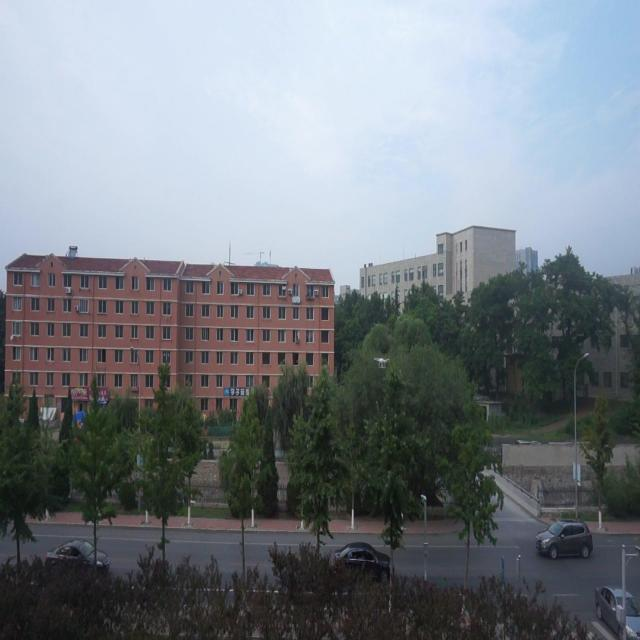UAV: (374, 357, 389, 369)
